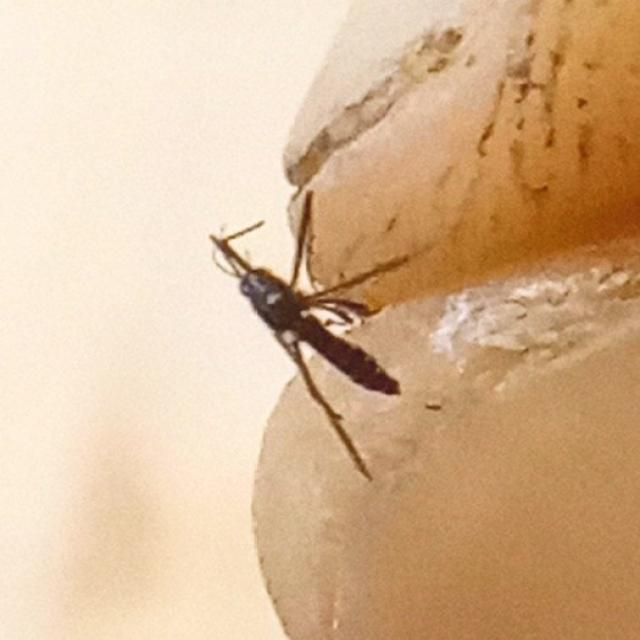albopictus: (190, 130, 443, 502)
